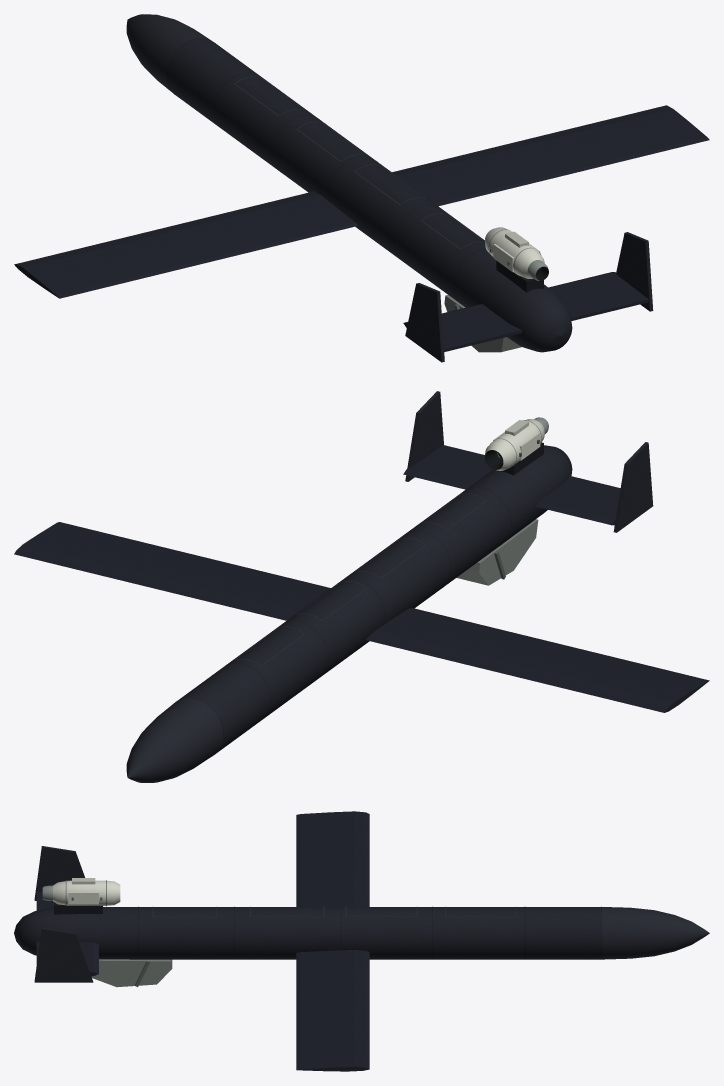
Rendered from geran5.obj.
The picture shows the model from 3 angles, top to bottom: view 1: azimuth 30°, elevation 25°; view 2: azimuth 150°, elevation 25°; view 3: azimuth 270°, elevation 25°; orthographic projection. The views are drawn at different scales.
Parts seen in each view (by area): view 1: straight_wing, fuselage, tailplane, twin_fin, rounded_tail, nose, pale_engine, lower_fairing, access_seam; view 2: fuselage, straight_wing, nose, tailplane, twin_fin, lower_fairing, pale_engine, rounded_tail, access_seam; view 3: fuselage, straight_wing, nose, twin_fin, lower_fairing, rounded_tail, pale_engine, tailplane, engine_mount.
Boxes of the visible parts, left/top/right/bottom form: straight_wing: left=14, top=105, right=709, bottom=298; fuselage: left=167, top=38, right=514, bottom=313; tailplane: left=403, top=272, right=648, bottom=351; twin_fin: left=405, top=232, right=653, bottom=362; rounded_tail: left=495, top=283, right=572, bottom=352; nose: left=126, top=14, right=209, bottom=92; pale_engine: left=485, top=227, right=544, bottom=278; lower_fairing: left=444, top=295, right=521, bottom=352; access_seam: left=235, top=76, right=484, bottom=249; fuselage: left=179, top=462, right=551, bottom=753; straight_wing: left=14, top=522, right=709, bottom=712; nose: left=126, top=698, right=223, bottom=782; tailplane: left=403, top=445, right=620, bottom=525; twin_fin: left=405, top=391, right=653, bottom=532; lower_fairing: left=456, top=519, right=538, bottom=585; pale_engine: left=485, top=419, right=544, bottom=470; rounded_tail: left=532, top=445, right=572, bottom=511; access_seam: left=235, top=493, right=486, bottom=666; fuselage: left=73, top=907, right=600, bottom=959; straight_wing: left=296, top=811, right=369, bottom=1071; nose: left=601, top=907, right=709, bottom=959; twin_fin: left=34, top=846, right=93, bottom=982; lower_fairing: left=91, top=959, right=172, bottom=987; rounded_tail: left=14, top=907, right=73, bottom=955; pale_engine: left=53, top=880, right=120, bottom=906; tailplane: left=36, top=891, right=98, bottom=976; engine_mount: left=54, top=902, right=102, bottom=914.
Bounding box in the file's own units: 8.24 × 1.51 × 9.49.
Materials: 1 (1 with a texture image).
